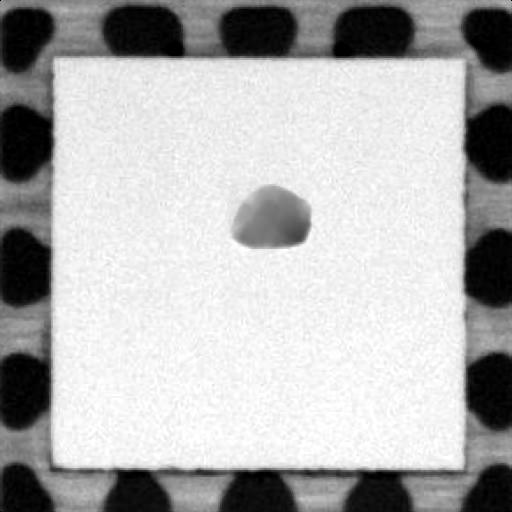DIE_INK: (218, 174, 316, 255)
